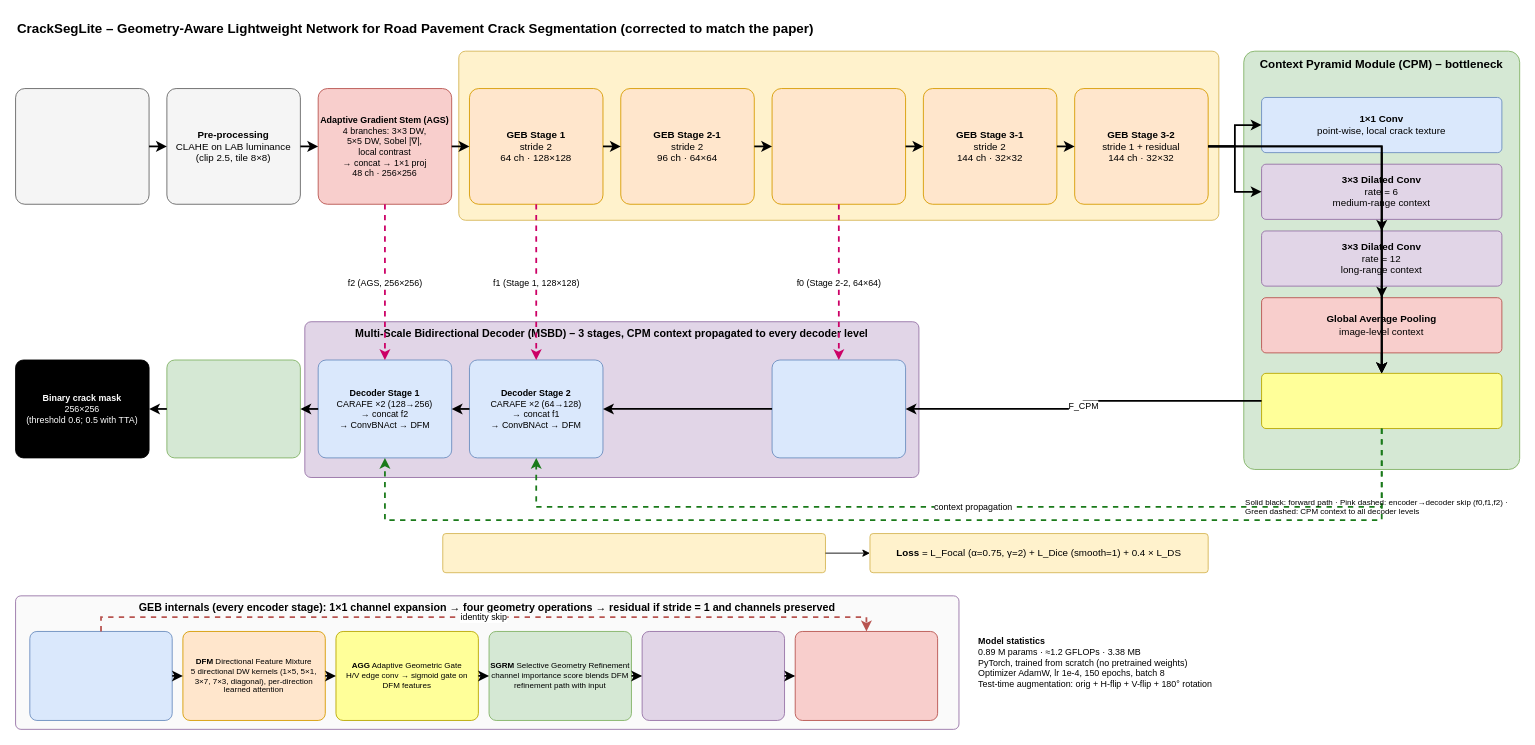
Image size: 1535x745. Some labels were removed from this diagram. Each missing label, with the box of its shape:
1×1 Conv channel expansion: (29, 631, 172, 720)
Coordinate Attention horizontal + vertical position-aware channel attention: (641, 631, 785, 720)
Decoder Stage 3 CARAFE ×2 (32→64) → concat f0 → ConvBNAct → DFM: (771, 359, 906, 458)
Deep supervision : auxiliary prediction at each decoder stage (weight 0.4): (442, 533, 825, 573)
Feature concatenation → 1×1 Conv fusion F_CPM = Conv([b1×1 ; b6 ; b12 ; b_GAP]): (1261, 372, 1502, 429)
GEB Stage 2-2 stride 1 + residual 96 ch · 64×64: (771, 88, 906, 204)
Geometric Enhancement Encoder – 5 × GEB: (458, 50, 1219, 220)
Input image road pavement RGB resized to 256×256: (15, 88, 149, 204)
Segmentation head 1×1 Conv (1 ch) + bilinear upsample: (166, 359, 300, 458)
⊕ Residual y = GEB(x) + x (stride 1, same channels): (794, 631, 938, 720)
